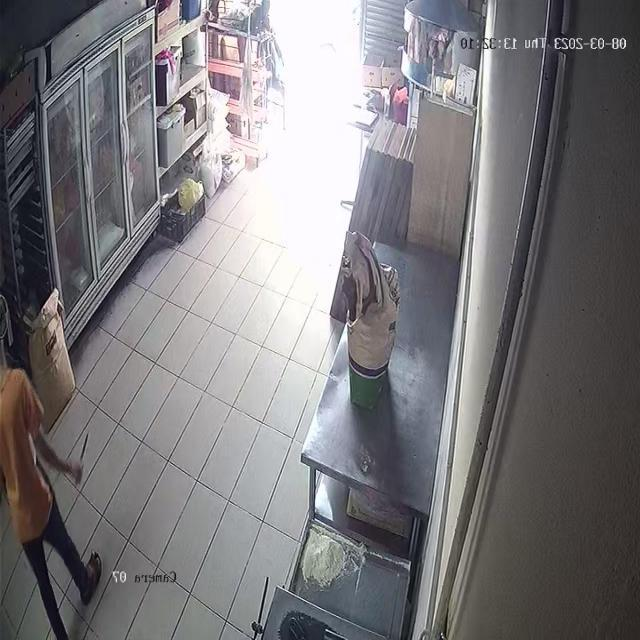Knife: (68, 416, 102, 484)
